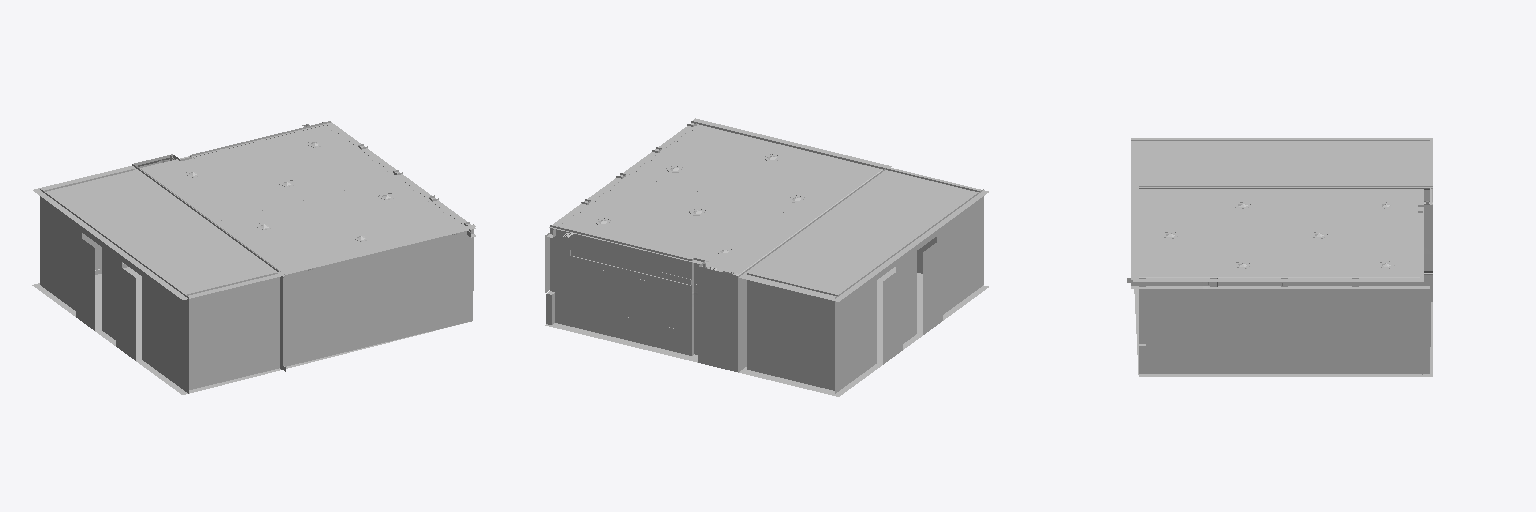
The model's file is classroom.obj.
The picture shows the model from 3 angles: view 1: azimuth 30°, elevation 25°; view 2: azimuth 150°, elevation 25°; view 3: azimuth 270°, elevation 25°; orthographic projection.
Parts seen in each view (by area): view 1: wall.013; view 2: wall.013; view 3: wall.013.
Boxes of the visible parts, <box> form: wall.013: <box>32,121,475,394</box>; wall.013: <box>545,118,988,396</box>; wall.013: <box>1127,138,1432,376</box>.
Bounding box in the file's own units: 9.45 × 3.01 × 8.5.